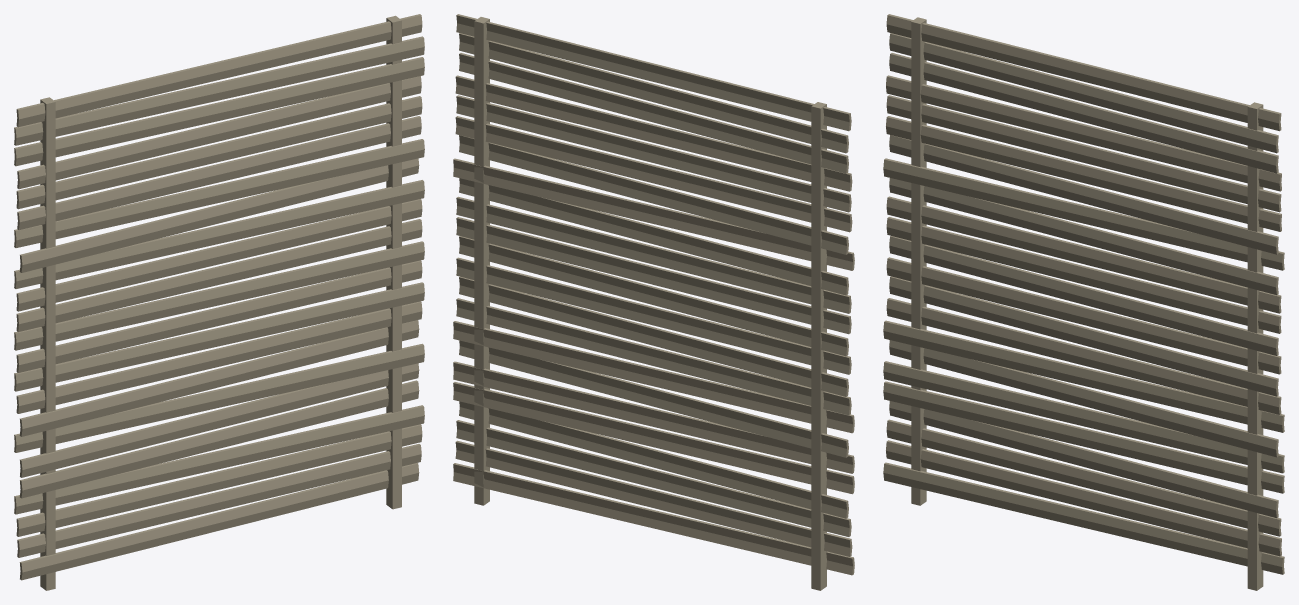
File: blinds.fbx
3 views of the same model, side by side, from view 1: azimuth 30°, elevation 25°; view 2: azimuth 150°, elevation 25°; view 3: azimuth 330°, elevation 25° (orthographic).
Visible parts, largest first — view 1: blinds; view 2: blinds; view 3: blinds.
Boxes of the visible parts, x1,y1,x2,y2 form: blinds: (14, 14, 424, 590); blinds: (453, 14, 854, 590); blinds: (883, 14, 1284, 590).
Bounding box in the file's own units: 76.25 × 88.68 × 3.73.
